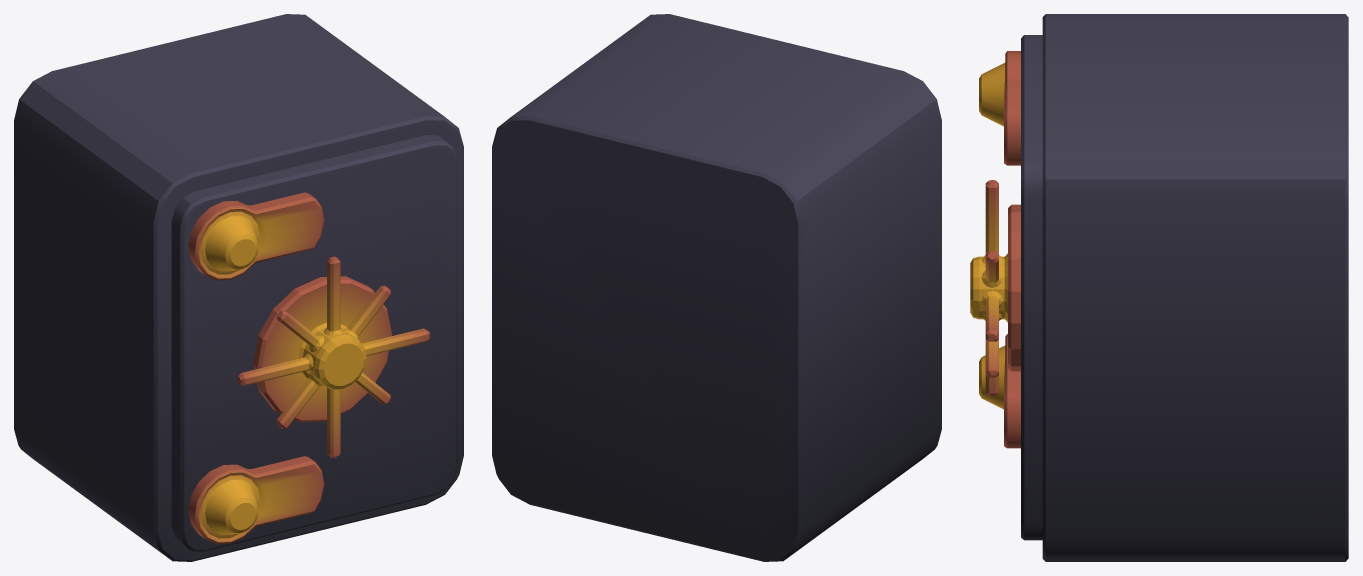
Rendered from Safe.fbx.
3 renders of one model, left to right at view 1: azimuth 30°, elevation 25°; view 2: azimuth 150°, elevation 25°; view 3: azimuth 270°, elevation 25°, orthographic. The views are drawn at different scales.
Parts seen in each view (by area): view 1: Safe; view 2: Safe; view 3: Safe.
Boxes of the visible parts, x1,y1,x2,y2 form: Safe: [14, 14, 463, 561]; Safe: [492, 14, 941, 561]; Safe: [970, 14, 1348, 561].
Bounding box in the file's own units: 145 × 173 × 143.
